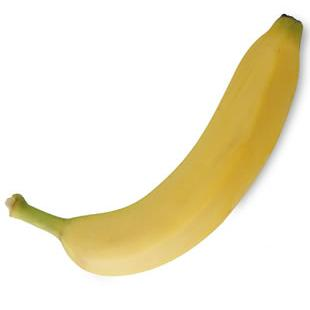banana: (0, 0, 310, 310)
